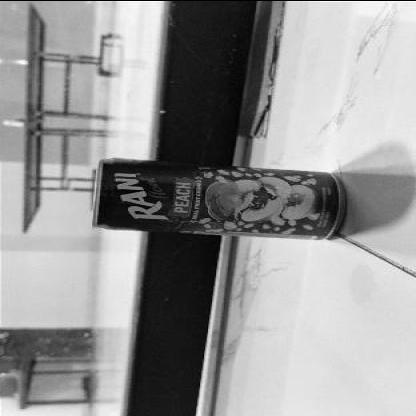alumunium_can: (89, 157, 348, 239)
